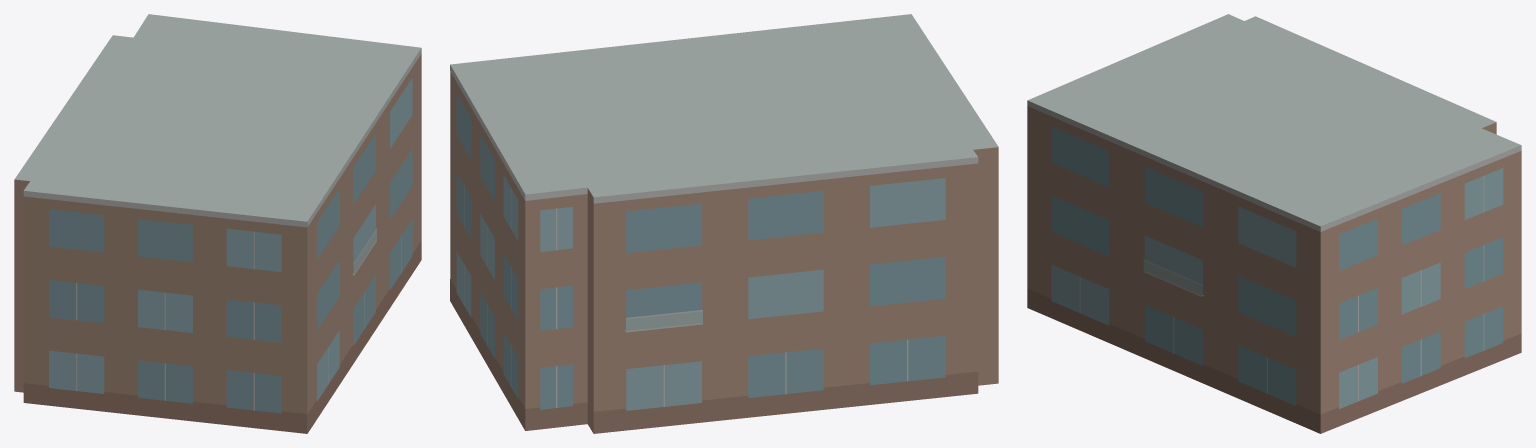
File: survey-upis-32823632.glb
The picture shows the model from 3 angles, left to right: view 1: azimuth 30°, elevation 25°; view 2: azimuth 150°, elevation 25°; view 3: azimuth 270°, elevation 25°; orthographic projection. The views are drawn at different scales.
Parts seen in each view (by area): view 1: survey-upis-32823632.tmp; view 2: survey-upis-32823632.tmp; view 3: survey-upis-32823632.tmp.
Boxes of the visible parts, box(x1,y1,x2,y2) form: survey-upis-32823632.tmp: box(14, 14, 421, 433); survey-upis-32823632.tmp: box(450, 14, 998, 433); survey-upis-32823632.tmp: box(1027, 14, 1521, 433).
Size of the model in its own units: 20.11 by 9.15 by 19.76.
